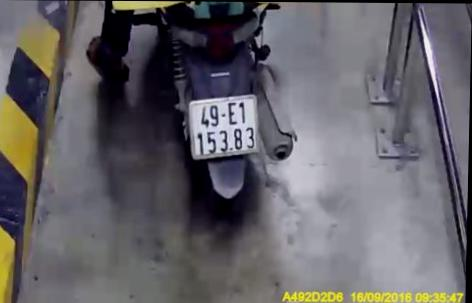License_Plate: (182, 97, 266, 162)
